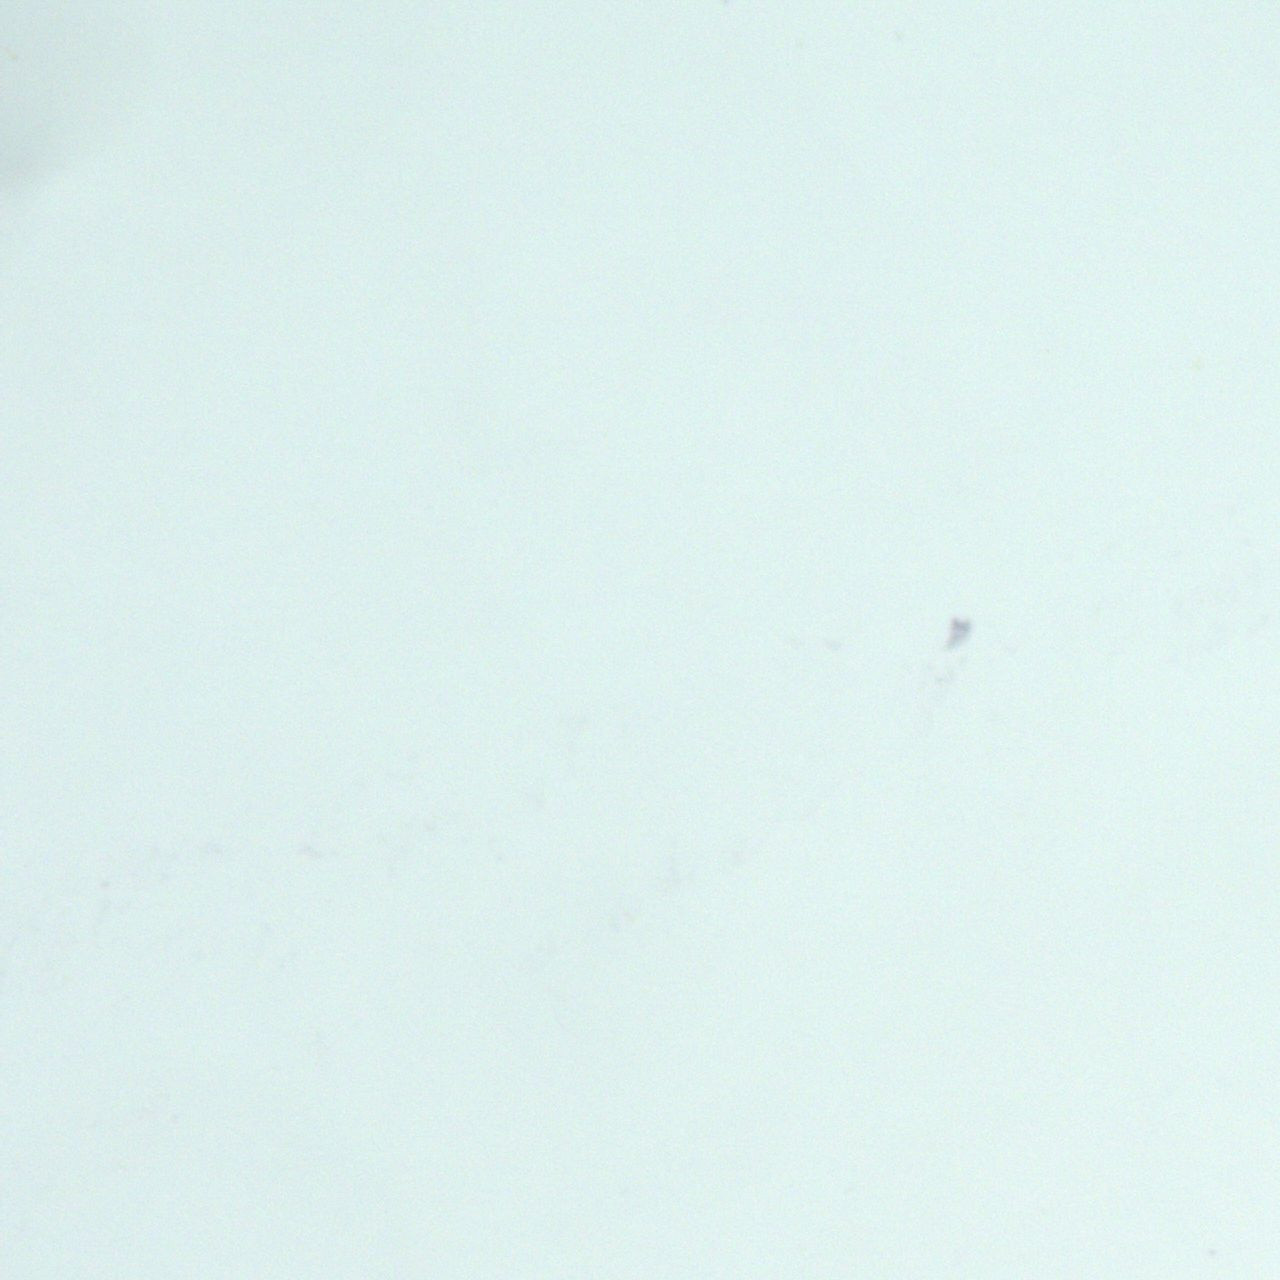dust: (945, 613, 974, 652)
